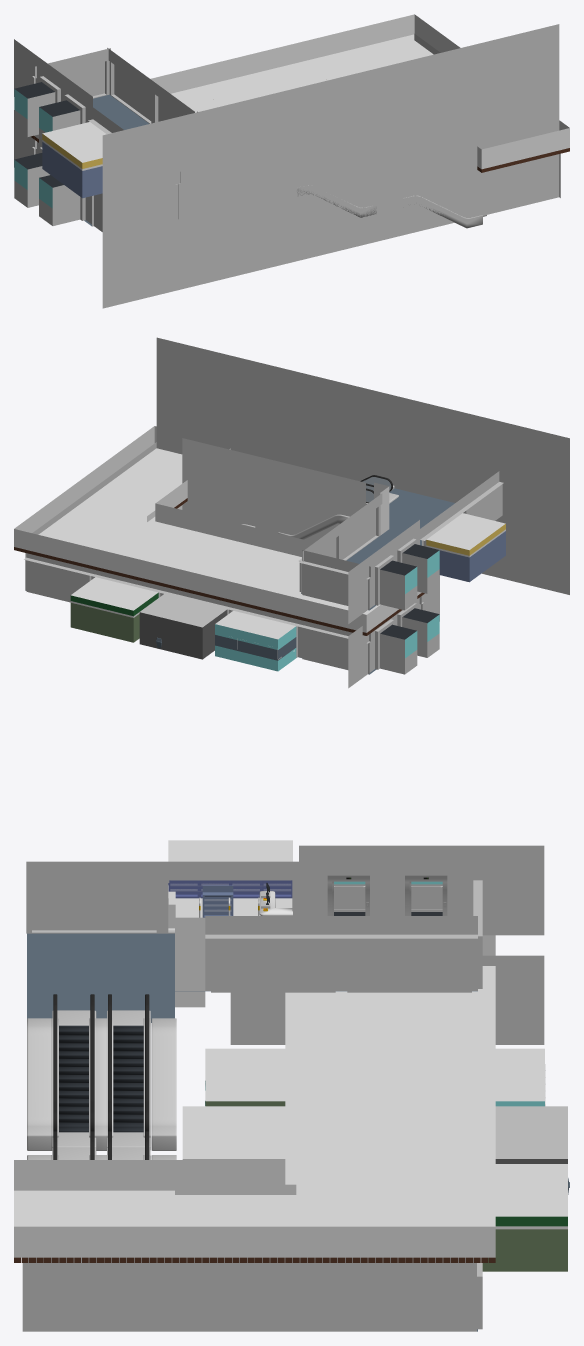
The model's file is mall 0219 (4).fbx.
3 views of the same model, one above another, from view 1: azimuth 30°, elevation 25°; view 2: azimuth 150°, elevation 25°; view 3: azimuth 270°, elevation 25° (orthographic). The views are drawn at different scales.
Parts seen in each view (by area): view 1: floor tile.002, roofOverlay, store_watsons.001, store_gate.028, store_gate.029, elevatorCabinet, elevatorCabinet.003, elevatorCabinet.001, floor tile.044, store_gate.027, elevatorCabinet.002, floor tile.032 (+5 smaller); view 2: floor tile.002, roofOverlay, floor tile.008, store_mcdonald.001, store_watsons.001, store_watsons, store_laundry shop.001, store_gate.029, store_gate.025, store_gate.024, store_gate.027, roof cover.002 (+14 smaller); view 3: roofOverlay, floor tile.004, store_gate.027, store_gate.028, store_gate.026, floor tile.040, store_watsons, floor tile.044, store_watsons.001, store_cha chaan teng.002, store_pharmacy.001, floor tile.007 (+25 smaller).
Boxes of the visible parts, box(x1,y1,x2,y2) form: floor tile.002: box(102, 24, 559, 308); roofOverlay: box(34, 14, 569, 169); store_watsons.001: box(42, 107, 123, 198); store_gate.028: box(107, 48, 153, 123); store_gate.029: box(32, 48, 110, 98); elevatorCabinet: box(39, 175, 80, 225); elevatorCabinet.003: box(14, 82, 55, 136); elevatorCabinet.001: box(14, 153, 49, 207); floor tile.044: box(14, 39, 43, 96); store_gate.027: box(151, 80, 194, 122); elevatorCabinet.002: box(39, 100, 80, 147); floor tile.032: box(99, 105, 148, 129); floor tile.002: box(156, 337, 569, 594); roofOverlay: box(14, 426, 421, 632); floor tile.008: box(182, 438, 365, 542); store_mcdonald.001: box(139, 587, 232, 659); store_watsons.001: box(420, 500, 505, 582); store_watsons: box(70, 570, 163, 642); store_laundry shop.001: box(215, 603, 301, 671); store_gate.029: box(299, 550, 370, 610); store_gate.025: box(24, 553, 95, 602); store_gate.024: box(299, 620, 370, 674); store_gate.027: box(340, 493, 382, 560); roof cover.002: box(14, 547, 424, 635); roofOverlay: box(14, 935, 495, 1257); floor tile.004: box(22, 1257, 476, 1331); store_gate.027: box(205, 916, 341, 992); store_gate.028: box(341, 916, 477, 992); store_gate.026: box(26, 861, 162, 933); floor tile.040: box(27, 933, 163, 991); store_watsons: box(482, 1164, 567, 1271); floor tile.044: box(453, 845, 544, 935); store_watsons.001: box(162, 840, 298, 933); store_cha chaan teng.002: box(182, 1106, 285, 1159); store_pharmacy.001: box(205, 1048, 285, 1106); floor tile.007: box(482, 955, 544, 1044).
Size of the model in its own units: 4381 by 1650 by 2937.
